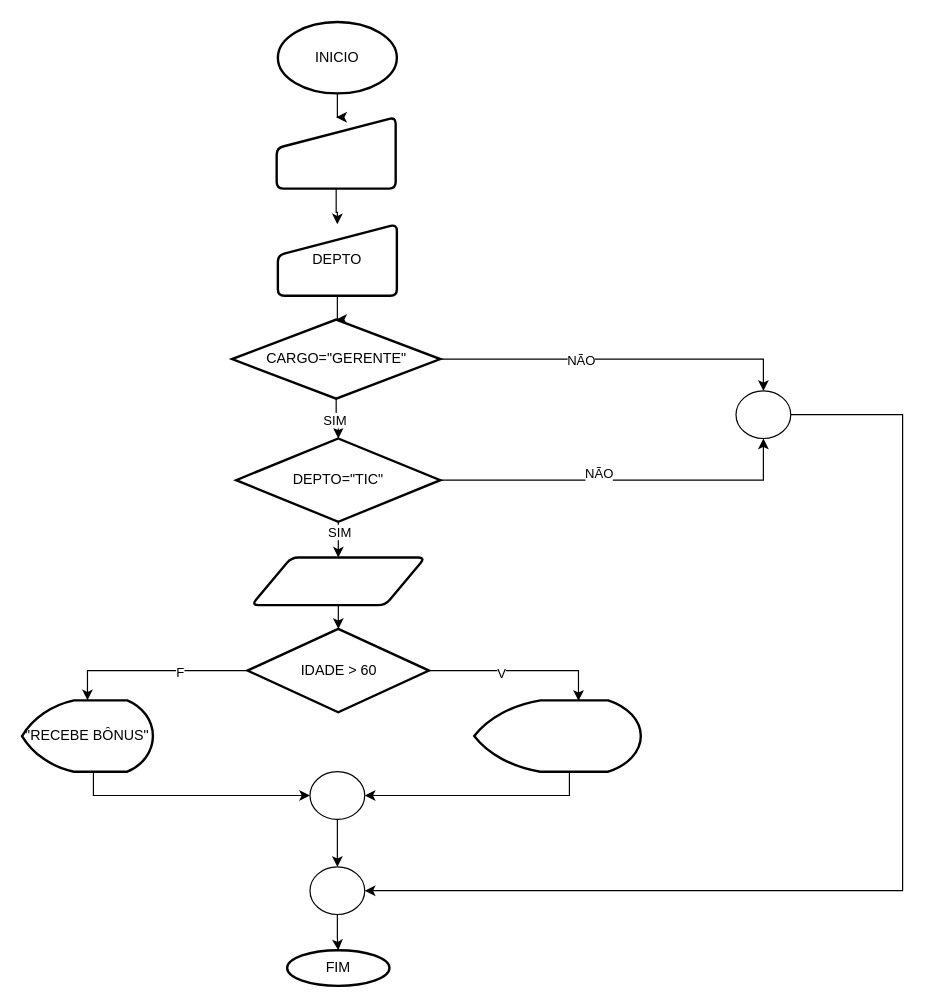
This 933x1007 diagram has some shape labels left out. Here are the shapes that lost their labels. From the top down, the box of each, then its label:
(275, 115, 396, 189): CARGO
(250, 556, 426, 606): IDADE
(472, 699, 641, 772): "RECEBE BÔNUS PLUS"
